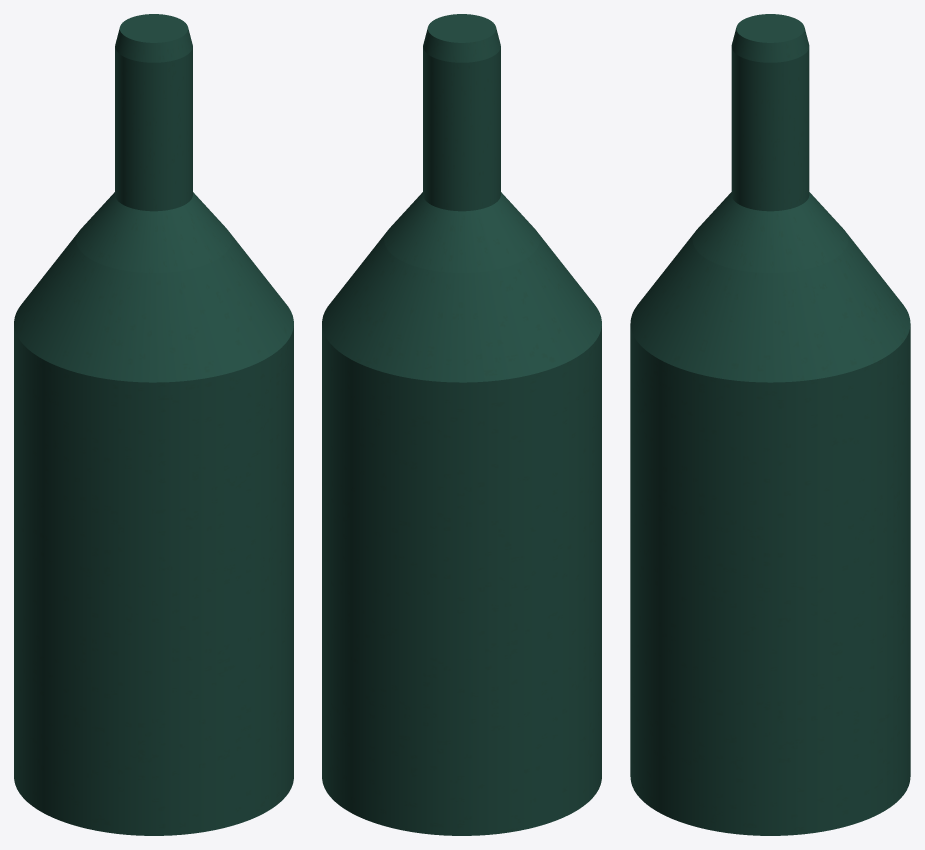
Rendered from misc_com_bottle_14.dae.
The picture shows the model from 3 angles, left to right: view 1: azimuth 30°, elevation 25°; view 2: azimuth 150°, elevation 25°; view 3: azimuth 270°, elevation 25°; orthographic projection.
Visible parts, largest first — view 1: jade; view 2: jade; view 3: jade.
Part boxes in pixels (x1,y1,x2,y2): jade: (14, 14, 293, 835); jade: (322, 14, 601, 835); jade: (630, 14, 910, 835).
Bounding box in the file's own units: 11.34 × 11.34 × 33.8.
